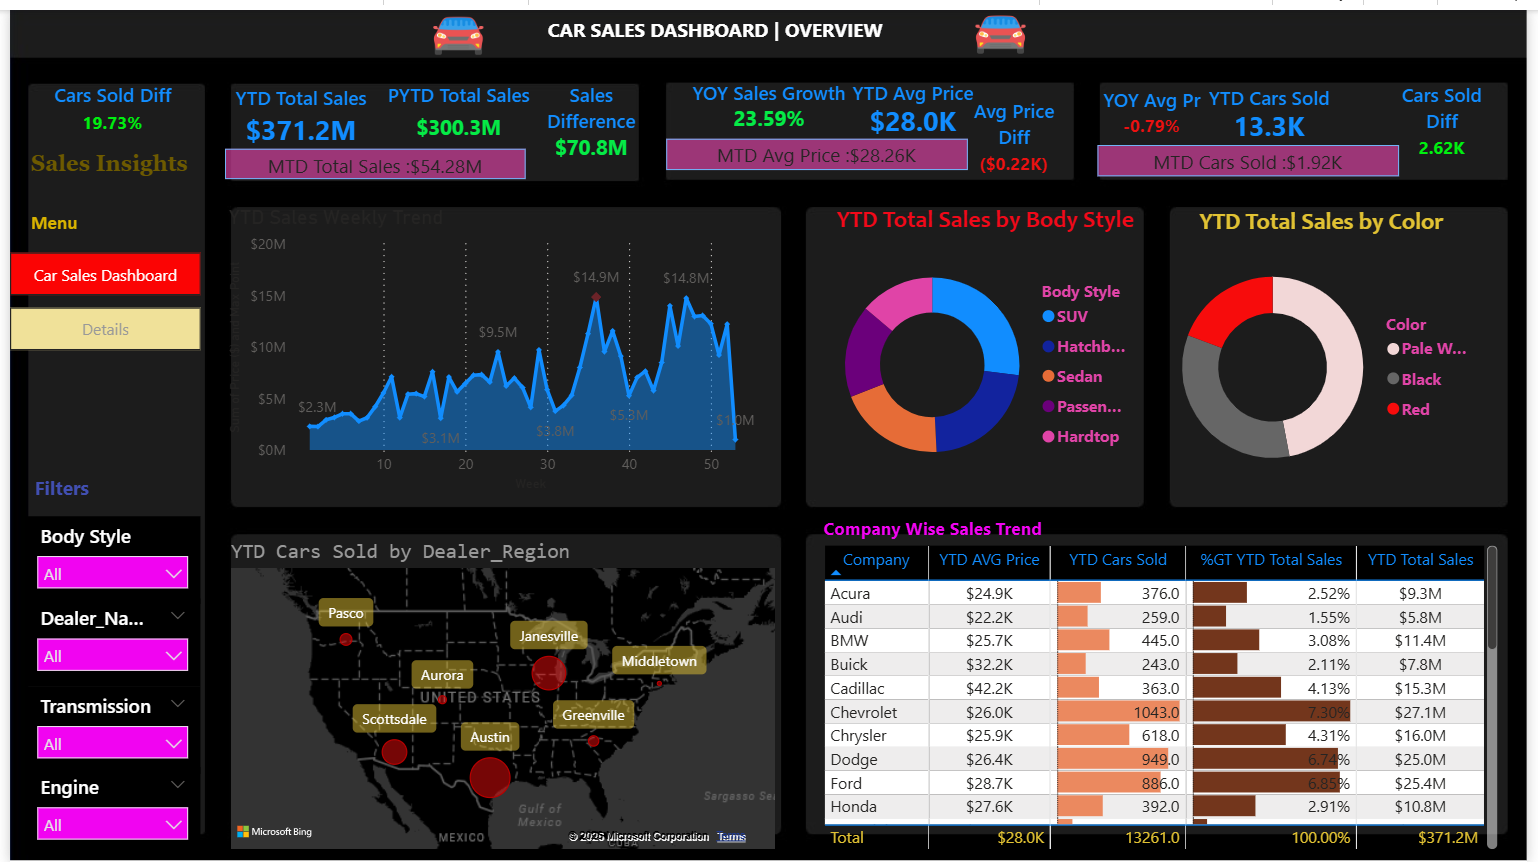

The page's visual inventory and layout, read from the dashboard file:
{"tool":"powerbi","page":{"name":"Car Sales Dashboard","canvas":[1280,720],"ordinal":0},"visuals":[{"type":"card","title":"YTD Total Sales","fields":{"Values":["car_data.YTD Total Sales"]},"box":[181.5,62.3,128.1,58.7],"z":0},{"type":"card","title":"PYTD Total Sales","fields":{"Values":["car_data.PYTD Total Sales"]},"box":[309.7,60.5,137,60.5],"z":1000},{"type":"card","title":"Sales Difference","fields":{"Values":["car_data.Sales Difference"]},"box":[435.7,60.6,109.6,72.1],"z":2000},{"type":"card","title":"YOY Sales Growth","fields":{"Values":["car_data.YOY Sales Growth"]},"box":[561.2,57.7,158.7,49.1],"z":3000},{"type":"card","fields":{"Values":["car_data.MTD KPI"]},"box":[181.8,116.9,253.9,26],"z":4000},{"type":"card","title":"YTD Avg Price","fields":{"Values":["car_data.YTD AVG Price"]},"box":[705.5,57.7,112.5,51.9],"z":5000},{"type":"card","title":"Avg Price Diff","fields":{"Values":["car_data.Avg Price Diff"]},"box":[795,73.6,103.9,69.3],"z":6000},{"type":"card","title":"YOY Avg Pr","fields":{"Values":["Calendar Table.YOY Avg Price Growth"]},"box":[909.5,64.1,108.6,49.8],"z":7000},{"type":"card","fields":{"Values":["car_data.MTD Avg Price KPI"]},"box":[553.6,108.6,254.1,26.4],"z":8000},{"type":"card","title":"YTD Cars Sold","fields":{"Values":["car_data.YTD Cars Sold"]},"box":[1005.6,62,112.5,51.9],"z":9000},{"type":"card","title":"Cars Sold Diff","fields":{"Values":["car_data.Cars Sold Diff"]},"box":[1155.7,60.1,104.4,69.6],"z":10000},{"type":"card","title":"Cars Sold Diff","fields":{"Values":["Calendar Table.YOY Car Sold Growth"]},"box":[13,60.4,148,46.2],"z":11000},{"type":"card","fields":{"Values":["car_data.MTD Cars Sold KPI"]},"box":[917.4,113.9,254.1,26.4],"z":12000},{"type":"areaChart","title":"YTD Sales Weekly Trend","fields":{"Category":["Calendar Table.Week"],"Y":["Sum(car_data.Price ($))","Calendar Table.Max Point"]},"box":[178.9,164.5,461.7,246.7],"z":13000},{"type":"donutChart","fields":{"Category":["car_data.Body Style"],"Y":["car_data.YTD Total Sales"]},"box":[681.7,163.7,283,247.4],"z":14000},{"type":"donutChart","fields":{"Y":["car_data.YTD Total Sales"],"Category":["car_data.Color"]},"box":[964.6,165.5,283,247.4],"z":15000},{"type":"map","fields":{"Category":["car_data.Dealer_Region"],"Size":["car_data.YTD Cars Sold"]},"box":[181.8,445.8,468.9,266.9],"z":16000},{"type":"tableEx","title":"Company Wise Sales Trend","fields":{"Values":["car_data.Company","car_data.YTD AVG Price","car_data.YTD Cars Sold","car_data.YTD Total Sales","car_data.YTD Total Sales1"]},"box":[681,427.1,578.5,285.7],"z":17000},{"type":"textbox","box":[434.6,0,320.9,41.5],"z":18000},{"type":"slicer","fields":{"Values":["car_data.Body Style"]},"box":[12.8,426.7,147.9,74],"z":19000},{"type":"slicer","fields":{"Values":["car_data.Dealer_Name"]},"box":[12.8,496.4,147.9,74],"z":20000},{"type":"slicer","fields":{"Values":["car_data.Transmission"]},"box":[12.8,570.3,147.9,74],"z":21000},{"type":"slicer","fields":{"Values":["car_data.Engine"]},"box":[12.8,638.6,147.9,74],"z":22000},{"type":"textbox","box":[13,114,150,40.4],"z":23000},{"type":"textbox","box":[13,164.5,85.1,40.4],"z":24000},{"type":"pageNavigator","box":[0,204.9,161.6,83.7],"z":25000},{"type":"textbox","box":[15.9,386.7,82.2,40.4],"z":26000},{"type":"image","box":[305.6,1.2,145,41.9],"z":27000},{"type":"image","box":[762.2,0,146.2,41.9],"z":28000}]}

Visuals, with their boxes in screenshot pixels (x1, y1, x2, y2), scaled from the page's 1280x720 canvas onto the 1538x862 screenshot:
"YTD Total Sales" card: [left=218, top=75, right=372, bottom=145]
"PYTD Total Sales" card: [left=372, top=72, right=537, bottom=145]
"Sales Difference" card: [left=524, top=73, right=655, bottom=159]
"YOY Sales Growth" card: [left=674, top=69, right=865, bottom=128]
card - car_data.MTD KPI: [left=218, top=140, right=524, bottom=171]
"YTD Avg Price" card: [left=848, top=69, right=983, bottom=131]
"Avg Price Diff" card: [left=955, top=88, right=1080, bottom=171]
"YOY Avg Pr" card: [left=1093, top=77, right=1223, bottom=136]
card - car_data.MTD Avg Price KPI: [left=665, top=130, right=971, bottom=162]
"YTD Cars Sold" card: [left=1208, top=74, right=1343, bottom=136]
"Cars Sold Diff" card: [left=1389, top=72, right=1514, bottom=155]
"Cars Sold Diff" card: [left=16, top=72, right=193, bottom=128]
card - car_data.MTD Cars Sold KPI: [left=1102, top=136, right=1408, bottom=168]
"YTD Sales Weekly Trend" areaChart: [left=215, top=197, right=770, bottom=492]
donutChart - car_data.Body Style x car_data.YTD Total Sales: [left=819, top=196, right=1159, bottom=492]
donutChart - car_data.YTD Total Sales x car_data.Color: [left=1159, top=198, right=1499, bottom=494]
map - car_data.Dealer_Region x car_data.YTD Cars Sold: [left=218, top=534, right=782, bottom=853]
"Company Wise Sales Trend" tableEx: [left=818, top=511, right=1513, bottom=853]
textbox: [left=522, top=0, right=908, bottom=50]
slicer - car_data.Body Style: [left=15, top=511, right=193, bottom=599]
slicer - car_data.Dealer_Name: [left=15, top=594, right=193, bottom=683]
slicer - car_data.Transmission: [left=15, top=683, right=193, bottom=771]
slicer - car_data.Engine: [left=15, top=765, right=193, bottom=853]
textbox: [left=16, top=136, right=196, bottom=185]
textbox: [left=16, top=197, right=118, bottom=245]
pageNavigator: [left=0, top=245, right=194, bottom=346]
textbox: [left=19, top=463, right=118, bottom=511]
image: [left=367, top=1, right=541, bottom=52]
image: [left=916, top=0, right=1091, bottom=50]
